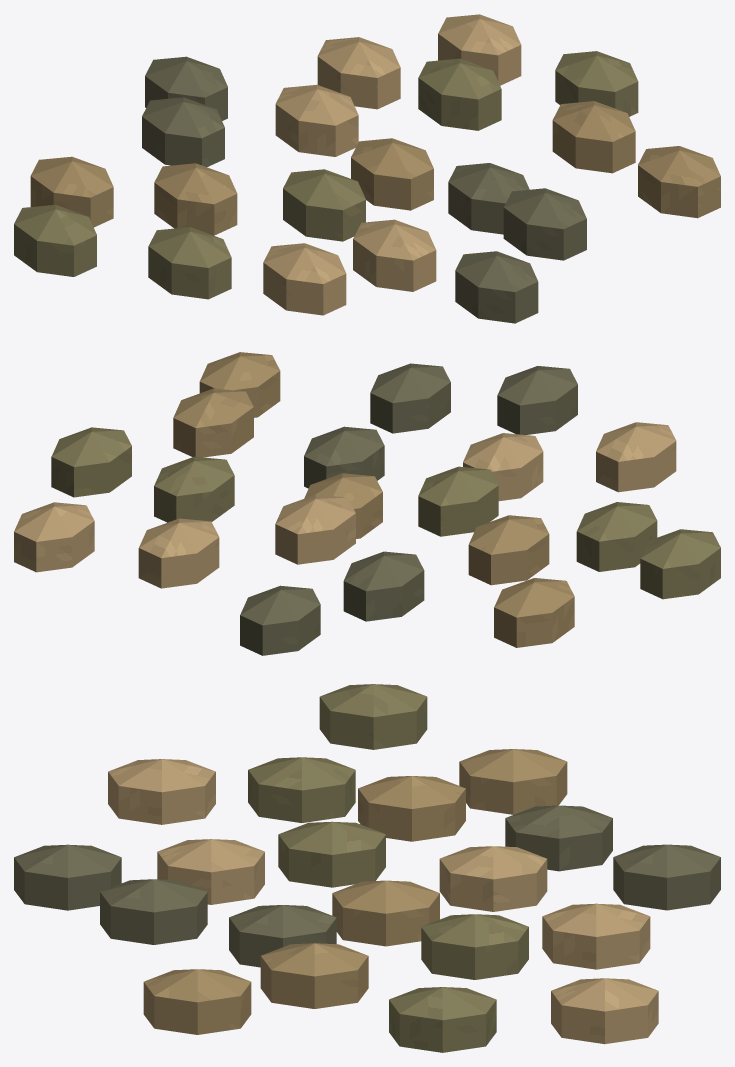
File: birdfood.glb
3 views of the same model, one above another, from view 1: azimuth 30°, elevation 25°; view 2: azimuth 150°, elevation 25°; view 3: azimuth 270°, elevation 25° (orthographic). The views are drawn at different scales.
Parts seen in each view (by area): view 1: block_loose seed or grain (×20); view 2: block_loose seed or grain (×20); view 3: block_loose seed or grain (×20).
Part boxes in pixels (left/top/right/bottom): block_loose seed or grain (×20): left=14, top=14, right=720, bottom=323; block_loose seed or grain (×20): left=14, top=352, right=720, bottom=655; block_loose seed or grain (×20): left=14, top=684, right=720, bottom=1052.
Bounding box in the file's own units: 0.1197 × 0.0151 × 0.1104.
Materials: 1 (1 with a texture image).
